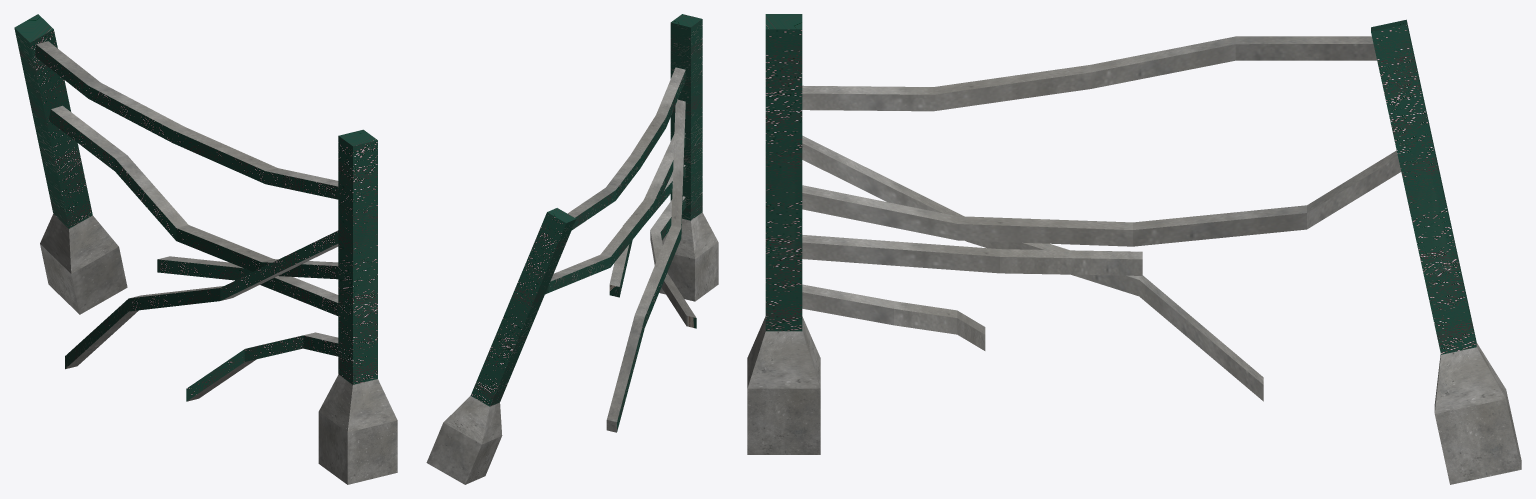
The model's file is BrokenFence.fbx.
The picture shows the model from 3 angles, left to right: view 1: azimuth 30°, elevation 25°; view 2: azimuth 150°, elevation 25°; view 3: azimuth 270°, elevation 25°; orthographic projection. The views are drawn at different scales.
Parts seen in each view (by area): view 1: FenceBroken; view 2: FenceBroken; view 3: FenceBroken.
Boxes of the visible parts, x1=… form: FenceBroken: x1=14, y1=14, x2=397, y2=484; FenceBroken: x1=426, y1=14, x2=718, y2=484; FenceBroken: x1=747, y1=14, x2=1521, y2=484.
Size of the model in its own units: 109 by 280 by 424.
